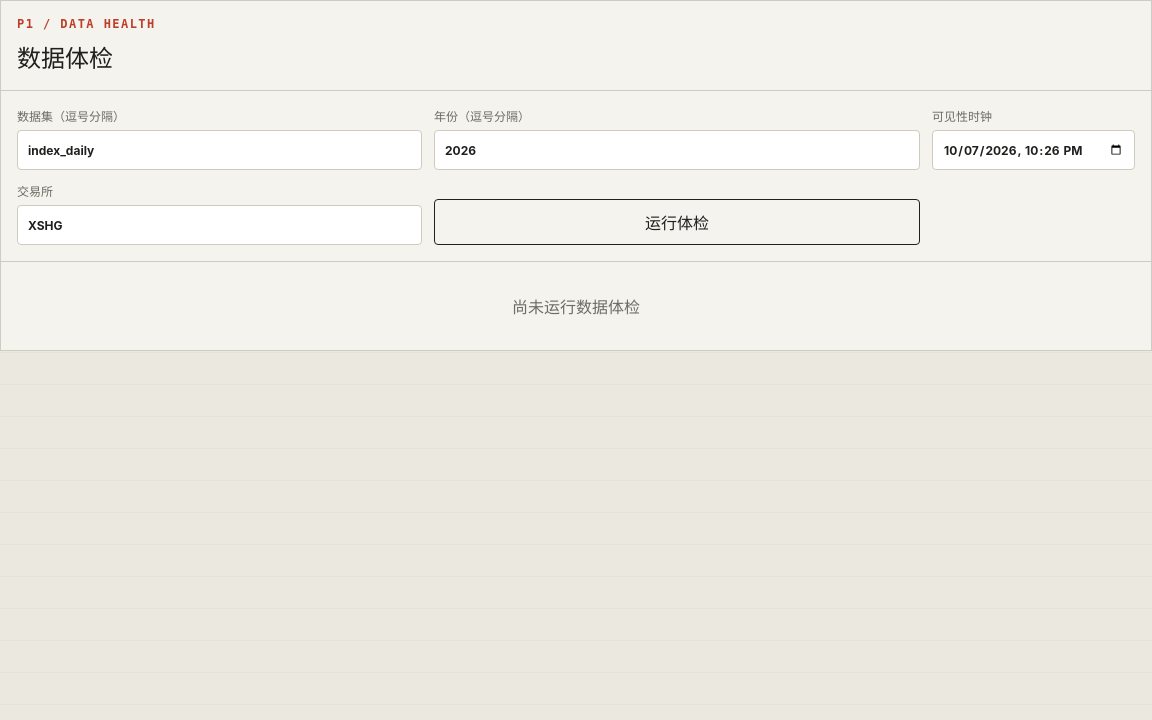
it: DataHealthPage › runs the check and renders the report the backend returned
Click the button "运行体检" at (677, 222), box x1=434 y1=199 x2=920 y2=245
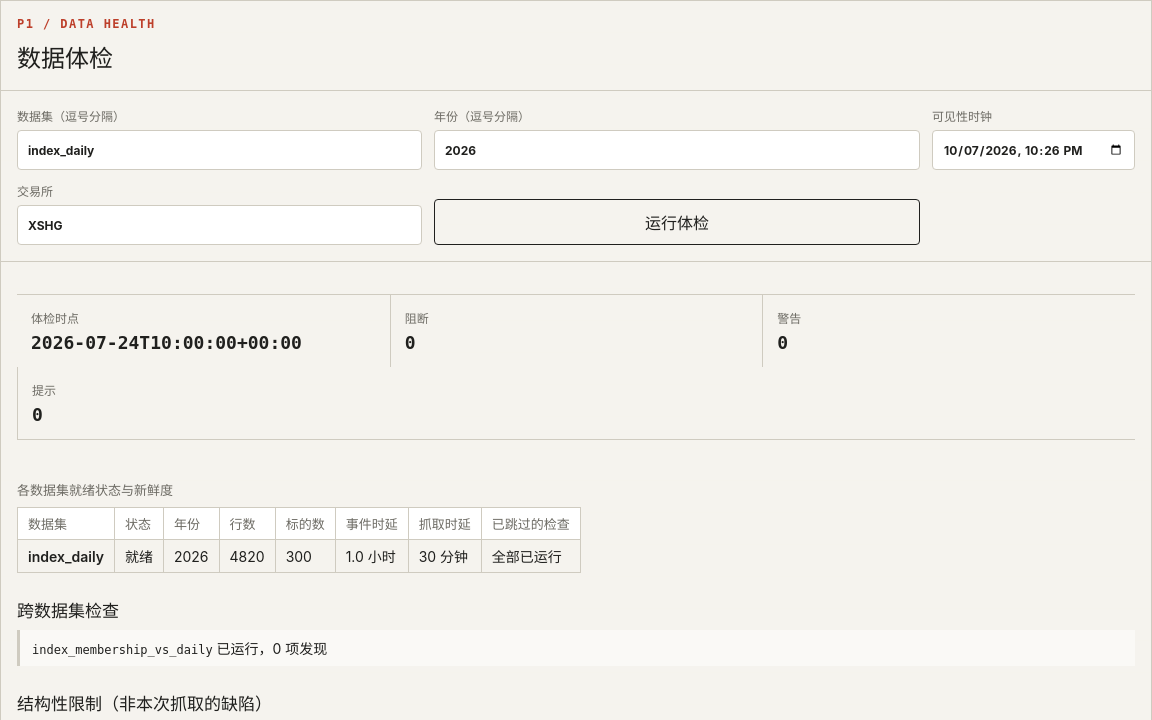
Check: the text "index_membership_vs_daily" is shown, box x1=32 y1=643 x2=213 y2=657
